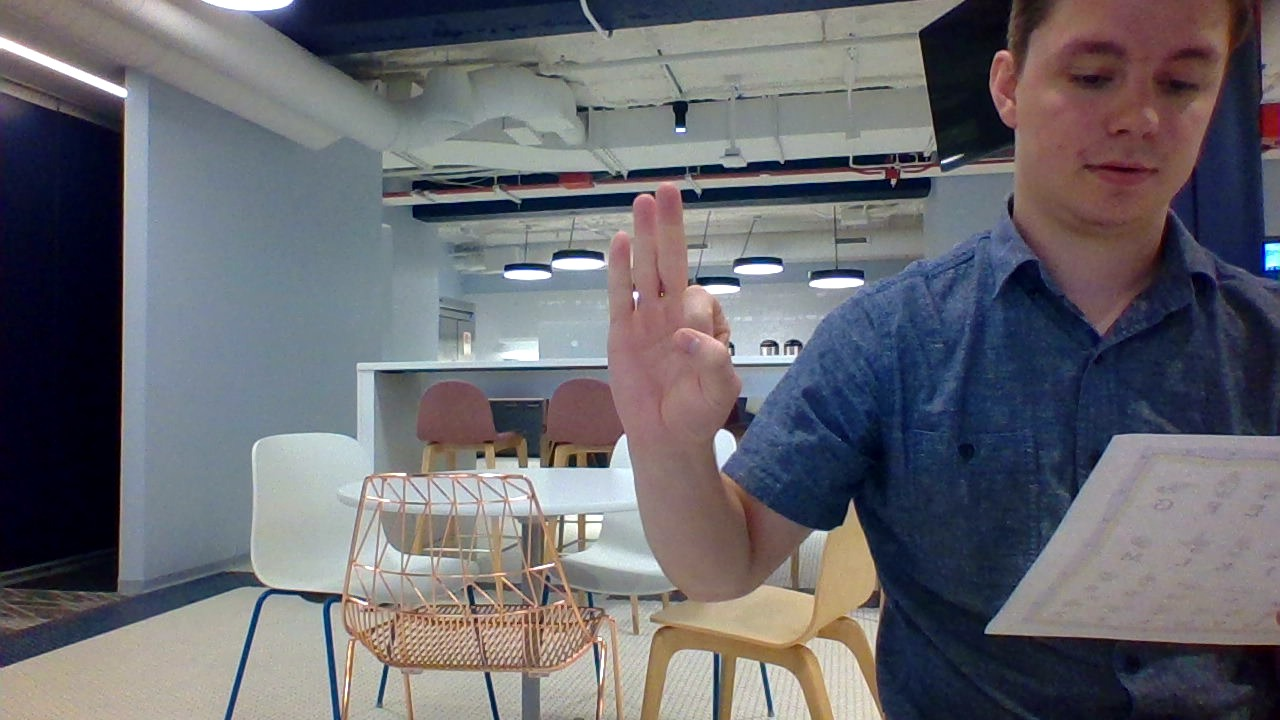f: (587, 174, 755, 465)
